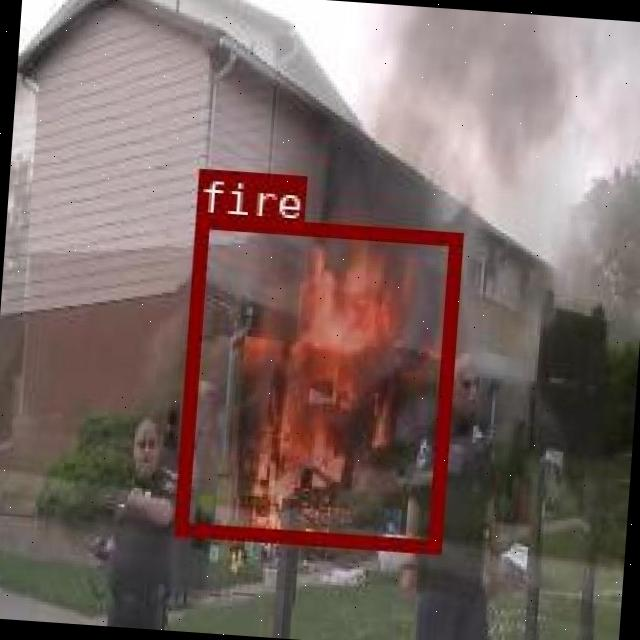fire: (174, 213, 458, 550)
